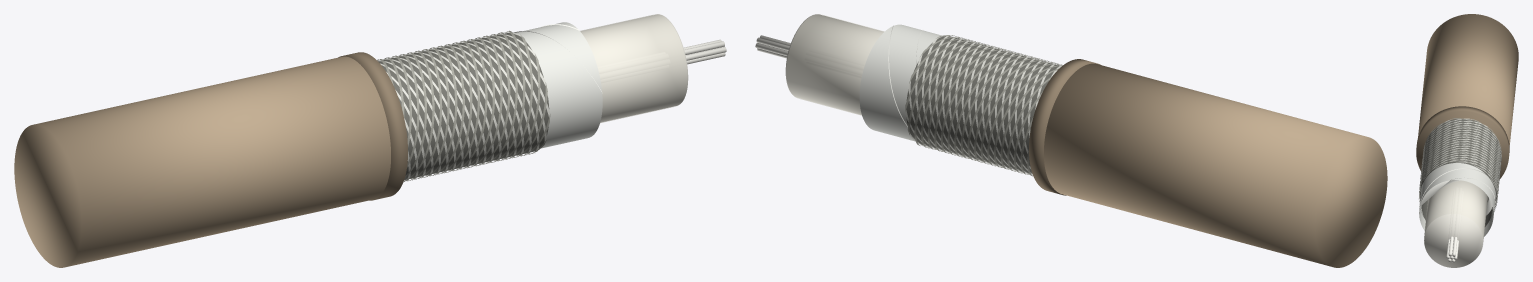
Rendered from rf-sucoflex550s.glb.
3 views of the same model, side by side, from view 1: azimuth 30°, elevation 25°; view 2: azimuth 150°, elevation 25°; view 3: azimuth 270°, elevation 25° (orthographic). The views are drawn at different scales.
Visible parts, largest first — view 1: matte black pvc jacket body, braid dark diamond recess, gas injected foam dielectric, smooth dielectric skin, duobond foil sleeve, jacket cut lip, braid left hand woven carrier 12, braid left hand woven carrier 01, braid left hand woven carrier 02, braid left hand woven carrier 11, braid left hand woven carrier 03, braid left hand woven carrier 10 (+13 smaller); view 2: matte black pvc jacket body, braid dark diamond recess, gas injected foam dielectric, smooth dielectric skin, duobond foil sleeve, jacket cut lip, braid left hand woven carrier 09, braid left hand woven carrier 08, braid left hand woven carrier 10, braid left hand woven carrier 07, braid left hand woven carrier 11, braid left hand woven carrier 06 (+11 smaller); view 3: matte black pvc jacket body, gas injected foam dielectric, braid dark diamond recess, smooth dielectric skin, jacket cut lip, duobond foil sleeve, subtle foil wrap lap, braid left hand woven carrier 11, braid left hand woven carrier 10, braid left hand woven carrier 09, braid left hand woven carrier 08, braid left hand woven carrier 07 (+22 smaller).
Boxes of the visible parts, box(x1,y1,x2,y2) form: matte black pvc jacket body: box(14, 56, 390, 267); braid dark diamond recess: box(378, 33, 549, 179); gas injected foam dielectric: box(580, 14, 688, 122); smooth dielectric skin: box(580, 14, 686, 123); duobond foil sleeve: box(515, 22, 602, 148); jacket cut lip: box(338, 52, 407, 200); braid left hand woven carrier 12: box(405, 32, 517, 177); braid left hand woven carrier 01: box(404, 30, 525, 181); braid left hand woven carrier 02: box(404, 34, 532, 181); braid left hand woven carrier 11: box(398, 34, 510, 167); braid left hand woven carrier 03: box(406, 47, 540, 180); braid left hand woven carrier 10: box(391, 35, 502, 169); matte black pvc jacket body: box(1044, 63, 1387, 267); braid dark diamond recess: box(906, 36, 1060, 174); gas injected foam dielectric: box(785, 14, 883, 114); smooth dielectric skin: box(786, 14, 884, 115); duobond foil sleeve: box(859, 24, 941, 141); jacket cut lip: box(1029, 59, 1100, 195); braid left hand woven carrier 09: box(914, 44, 1062, 167); braid left hand woven carrier 08: box(921, 45, 1059, 169); braid left hand woven carrier 10: box(907, 42, 1061, 166); braid left hand woven carrier 07: box(927, 47, 1052, 171); braid left hand woven carrier 11: box(905, 40, 1061, 164); braid left hand woven carrier 06: box(934, 49, 1042, 173); matte black pvc jacket body: box(1418, 14, 1518, 145); gas injected foam dielectric: box(1424, 180, 1487, 267); braid dark diamond recess: box(1420, 119, 1500, 207); smooth dielectric skin: box(1424, 181, 1487, 242); jacket cut lip: box(1416, 106, 1509, 179); duobond foil sleeve: box(1419, 163, 1495, 236); subtle foil wrap lap: box(1419, 168, 1496, 215); braid left hand woven carrier 11: box(1420, 127, 1500, 198); braid left hand woven carrier 10: box(1421, 125, 1500, 211); braid left hand woven carrier 09: box(1420, 122, 1500, 201); braid left hand woven carrier 08: box(1420, 120, 1500, 200); braid left hand woven carrier 07: box(1421, 118, 1501, 188).
Bounding box in the file's own units: 6.52 × 1.26 × 1.39.
